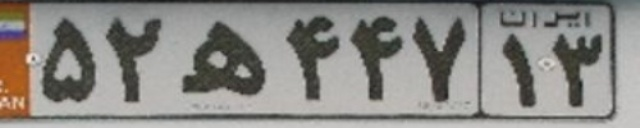1: (501, 33, 536, 106)
2: (104, 15, 161, 103)
3: (549, 32, 602, 106)
4: (284, 14, 342, 99), (350, 13, 404, 100)
5: (40, 16, 96, 102)
7: (410, 13, 468, 102)
he: (179, 19, 267, 96)
